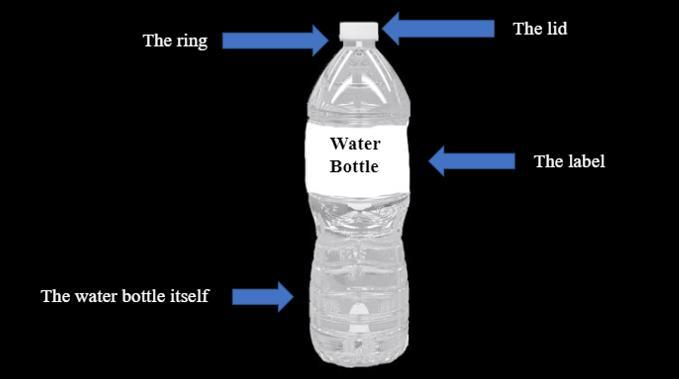bottle: (307, 21, 414, 367)
